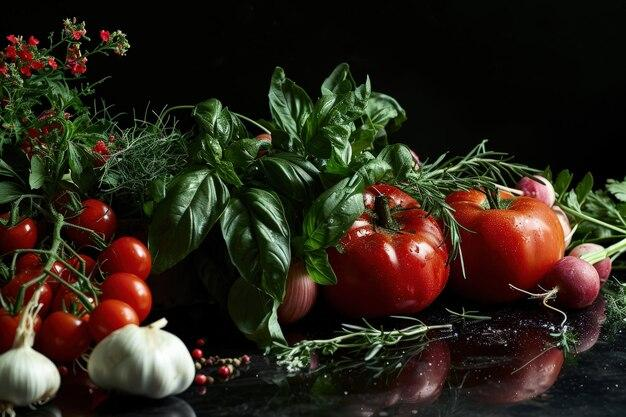apple: (440, 192, 567, 310)
garlic: (68, 328, 233, 406)
tomato: (12, 190, 151, 337), (451, 173, 590, 319)
